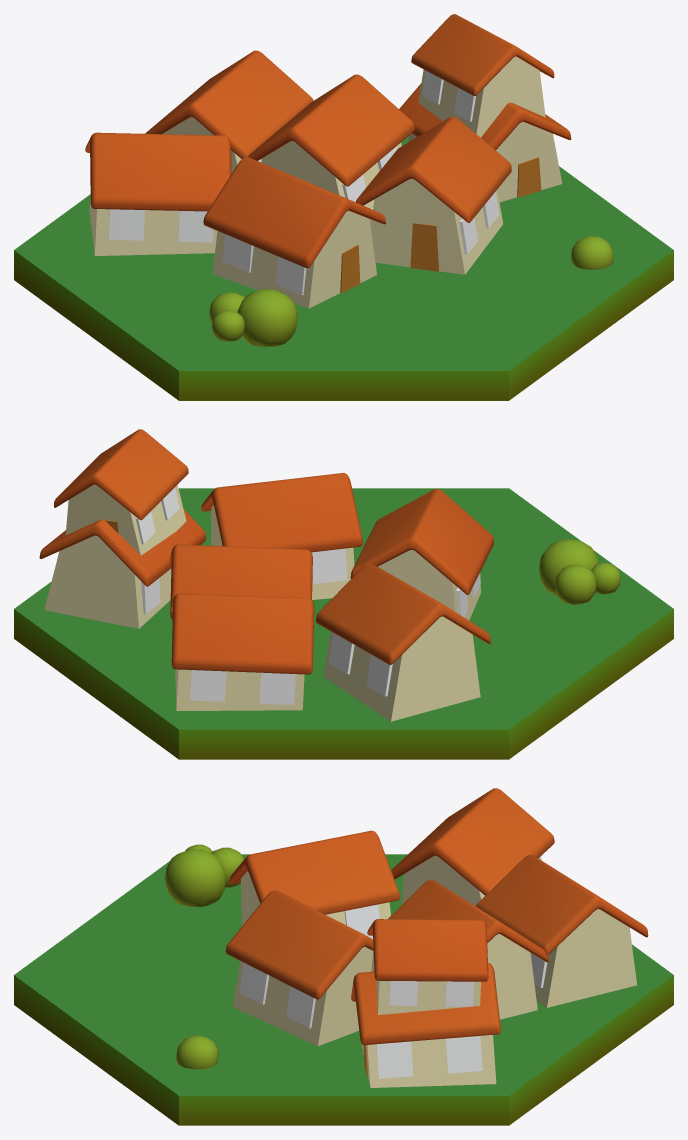
The model's file is hex5.fbx.
3 views of the same model, one above another, from view 1: azimuth 30°, elevation 25°; view 2: azimuth 150°, elevation 25°; view 3: azimuth 270°, elevation 25° (orthographic).
Parts seen in each view (by area): view 1: hex_house_grass; view 2: hex_house_grass; view 3: hex_house_grass.
Boxes of the visible parts, bbox=[...] form: hex_house_grass: bbox=[14, 14, 673, 400]; hex_house_grass: bbox=[14, 429, 673, 759]; hex_house_grass: bbox=[14, 788, 673, 1125].
Size of the model in its own units: 173 by 58.97 by 200.
